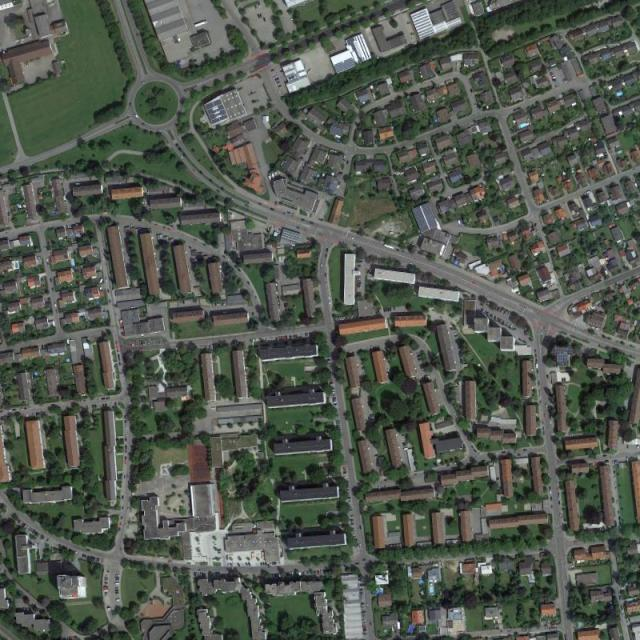vehicle: (194, 20, 208, 28), (385, 243, 396, 251)
